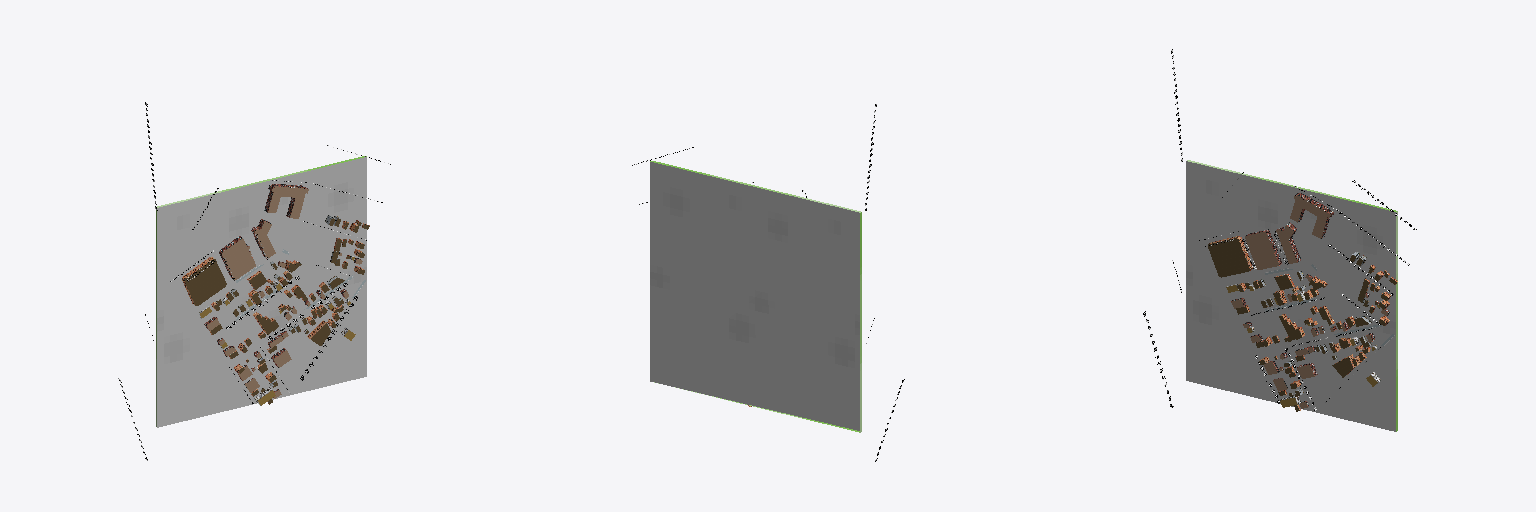
The picture shows the model from 3 angles: view 1: azimuth 30°, elevation 25°; view 2: azimuth 150°, elevation 25°; view 3: azimuth 330°, elevation 25°; orthographic projection.
Visible parts, largest first — view 1: POLYGON, BUILDING, FONT; view 2: POLYGON; view 3: POLYGON, BUILDING, FONT.
Boxes of the visible parts, x1=… form: POLYGON: x1=156, y1=156, x2=366, y2=427; BUILDING: x1=182, y1=184, x2=369, y2=405; FONT: x1=118, y1=102, x2=390, y2=460; POLYGON: x1=650, y1=161, x2=861, y2=432; POLYGON: x1=1186, y1=160, x2=1397, y2=431; BUILDING: x1=1208, y1=193, x2=1397, y2=411; FONT: x1=1143, y1=49, x2=1416, y2=410.
Bounding box in the file's own units: 794 × 1002 × 41.1.
4 materials, 4 textured.